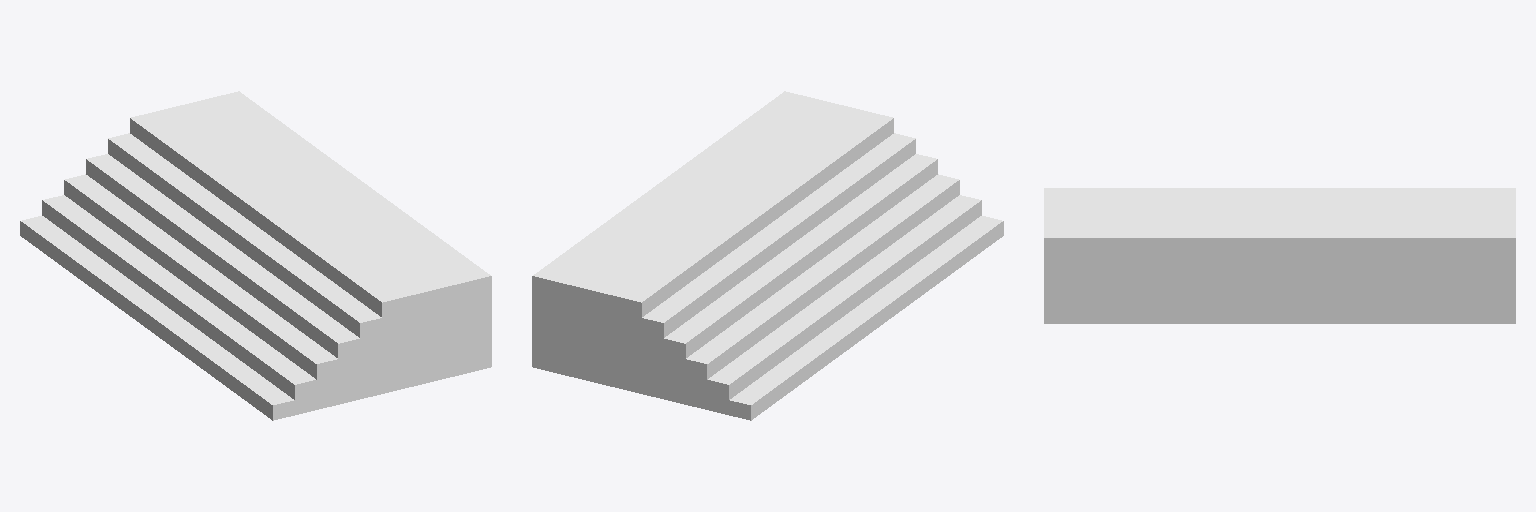
URDF robot description (stair):
<?xml version="1.0"?>
<robot name="stair">
    <link name="stair1">
        <contact>
            <lateral_friction value="0.5" />
            <rolling_friction value="0.0" />
            <contact_cfm value="0.0" />
            <contact_erp value="1.0" />
        </contact>
        <inertial>
            <origin rpy="0 0 0" xyz="0 0 0" />
            <mass value="30" />
        </inertial>
        <visual>
            <origin rpy="0 0 0" xyz="0 0 0" />
            <geometry>
                <box size="3.0 6.0 0.2" />
            </geometry>
            <material name="slider_mat">
                <color rgba="1.0 1.0 1.0 1" />
            </material>
        </visual>
        <collision>
            <origin rpy="0 0 0" xyz="0 0 0" />
            <geometry>
                <box size="3.0 6.0 0.2" />
            </geometry>
        </collision>
    </link>

    <link name="stair2">
        <contact>
            <lateral_friction value="0.5" />
            <rolling_friction value="0.0" />
            <contact_cfm value="0.0" />
            <contact_erp value="1.0" />
        </contact>
        <inertial>
            <origin rpy="0 0 0" xyz="0 0 0" />
            <mass value="30" />
        </inertial>
        <visual>
            <origin rpy="0 0 0" xyz="0 0 0" />
            <geometry>
                <box size="2.7 6.0 0.2" />
            </geometry>
            <material name="slider_mat">
                <color rgba="1.0 1.0 1.0 1" />
            </material>
        </visual>
        <collision>
            <origin rpy="0 0 0" xyz="0 0 0" />
            <geometry>
                <box size="2.7 6.0 0.2" />
            </geometry>
        </collision>
    </link>

    <joint name="stair1_to_stair2" type="fixed">
        <parent link="stair1" />
        <child link="stair2" />
        <origin rpy="0 0 0" xyz="0.15 0 0.2" />
        <axis xyz="0 0 1" />
    </joint>

    <link name="stair3">
        <contact>
            <lateral_friction value="0.5" />
            <rolling_friction value="0.0" />
            <contact_cfm value="0.0" />
            <contact_erp value="1.0" />
        </contact>
        <inertial>
            <origin rpy="0 0 0" xyz="0 0 0" />
            <mass value="30" />
        </inertial>
        <visual>
            <origin rpy="0 0 0" xyz="0 0 0" />
            <geometry>
                <box size="2.4 6.0 0.2" />
            </geometry>
            <material name="slider_mat">
                <color rgba="1.0 1.0 1.0 1" />
            </material>
        </visual>
        <collision>
            <origin rpy="0 0 0" xyz="0 0 0" />
            <geometry>
                <box size="2.4 6.0 0.2" />
            </geometry>
        </collision>
    </link>

    <joint name="stair2_to_stair3" type="fixed">
        <parent link="stair2" />
        <child link="stair3" />
        <origin rpy="0 0 0" xyz="0.15 0 0.2" />
        <axis xyz="0 0 1" />
    </joint>

    <link name="stair4">
        <contact>
            <lateral_friction value="0.5" />
            <rolling_friction value="0.0" />
            <contact_cfm value="0.0" />
            <contact_erp value="1.0" />
        </contact>
        <inertial>
            <origin rpy="0 0 0" xyz="0 0 0" />
            <mass value="30" />
        </inertial>
        <visual>
            <origin rpy="0 0 0" xyz="0 0 0" />
            <geometry>
                <box size="2.1 6.0 0.2" />
            </geometry>
            <material name="slider_mat">
                <color rgba="1.0 1.0 1.0 1" />
            </material>
        </visual>
        <collision>
            <origin rpy="0 0 0" xyz="0 0 0" />
            <geometry>
                <box size="2.1 6.0 0.2" />
            </geometry>
        </collision>
    </link>

    <joint name="stair3_to_stair4" type="fixed">
        <parent link="stair3" />
        <child link="stair4" />
        <origin rpy="0 0 0" xyz="0.15 0 0.2" />
        <axis xyz="0 0 1" />
    </joint>

    <link name="stair5">
        <contact>
            <lateral_friction value="0.5" />
            <rolling_friction value="0.0" />
            <contact_cfm value="0.0" />
            <contact_erp value="1.0" />
        </contact>
        <inertial>
            <origin rpy="0 0 0" xyz="0 0 0" />
            <mass value="30" />
        </inertial>
        <visual>
            <origin rpy="0 0 0" xyz="0 0 0" />
            <geometry>
                <box size="1.8 6.0 0.2" />
            </geometry>
            <material name="slider_mat">
                <color rgba="1.0 1.0 1.0 1" />
            </material>
        </visual>
        <collision>
            <origin rpy="0 0 0" xyz="0 0 0" />
            <geometry>
                <box size="1.8 6.0 0.2" />
            </geometry>
        </collision>
    </link>

    <joint name="stair4_to_stair5" type="fixed">
        <parent link="stair4" />
        <child link="stair5" />
        <origin rpy="0 0 0" xyz="0.15 0 0.2" />
        <axis xyz="0 0 1" />
    </joint>

    <link name="stair6">
        <contact>
            <lateral_friction value="0.5" />
            <rolling_friction value="0.0" />
            <contact_cfm value="0.0" />
            <contact_erp value="1.0" />
        </contact>
        <inertial>
            <origin rpy="0 0 0" xyz="0 0 0" />
            <mass value="30" />
        </inertial>
        <visual>
            <origin rpy="0 0 0" xyz="0 0 0" />
            <geometry>
                <box size="1.5 6.0 0.2" />
            </geometry>
            <material name="slider_mat">
                <color rgba="1.0 1.0 1.0 1" />
            </material>
        </visual>
        <collision>
            <origin rpy="0 0 0" xyz="0 0 0" />
            <geometry>
                <box size="1.5 6.0 0.2" />
            </geometry>
        </collision>
    </link>

    <joint name="stair5_to_stair6" type="fixed">
        <parent link="stair5" />
        <child link="stair6" />
        <origin rpy="0 0 0" xyz="0.15 0 0.2" />
        <axis xyz="0 0 1" />
    </joint>

</robot>

--- Render facts (derived) ---
The picture shows the robot from 3 angles, left to right: view 1: azimuth 30°, elevation 25°; view 2: azimuth 150°, elevation 25°; view 3: azimuth 270°, elevation 25°; orthographic projection.
Model stair with 6 links and 5 joints (5 fixed), rooted at stair1, posed every joint at zero.
Links seen in each view (by area): view 1: stair6, stair1, stair2, stair3, stair4, stair5; view 2: stair6, stair1, stair2, stair3, stair4, stair5; view 3: stair6, stair1, stair5, stair2, stair3, stair4.
Link boxes in pixels (x1=…): stair6: x1=130, y1=91, x2=491, y2=317; stair1: x1=20, y1=216, x2=491, y2=420; stair2: x1=42, y1=195, x2=491, y2=399; stair3: x1=64, y1=174, x2=491, y2=379; stair4: x1=86, y1=154, x2=491, y2=358; stair5: x1=108, y1=133, x2=491, y2=337; stair6: x1=532, y1=91, x2=893, y2=317; stair1: x1=532, y1=216, x2=1003, y2=420; stair2: x1=532, y1=195, x2=981, y2=399; stair3: x1=532, y1=174, x2=959, y2=379; stair4: x1=532, y1=154, x2=937, y2=358; stair5: x1=532, y1=133, x2=915, y2=337; stair6: x1=1044, y1=188, x2=1515, y2=251; stair1: x1=1044, y1=309, x2=1515, y2=323; stair5: x1=1044, y1=252, x2=1515, y2=266; stair2: x1=1044, y1=295, x2=1515, y2=308; stair3: x1=1044, y1=281, x2=1515, y2=294; stair4: x1=1044, y1=267, x2=1515, y2=280.
Bounding box of the posed robot: 3 × 6 × 1.2 m (x, y, z).
Geometry: primitives only (box / cylinder / sphere), no mesh files.